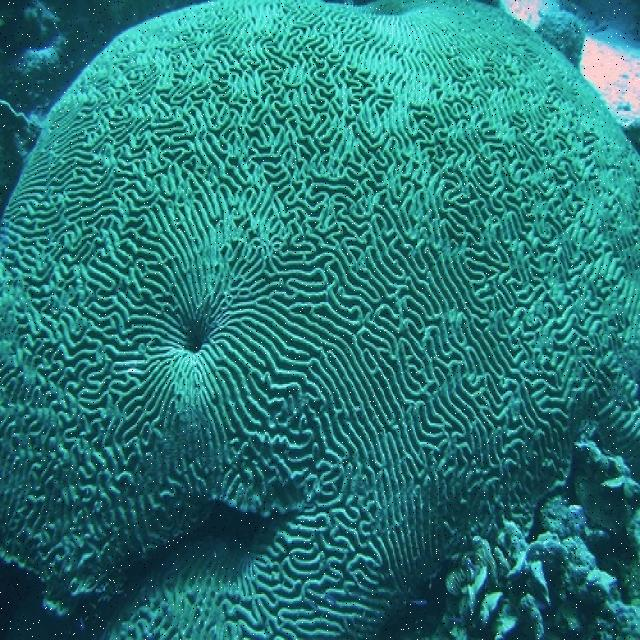reefs: (0, 0, 639, 638), (443, 523, 579, 638)
